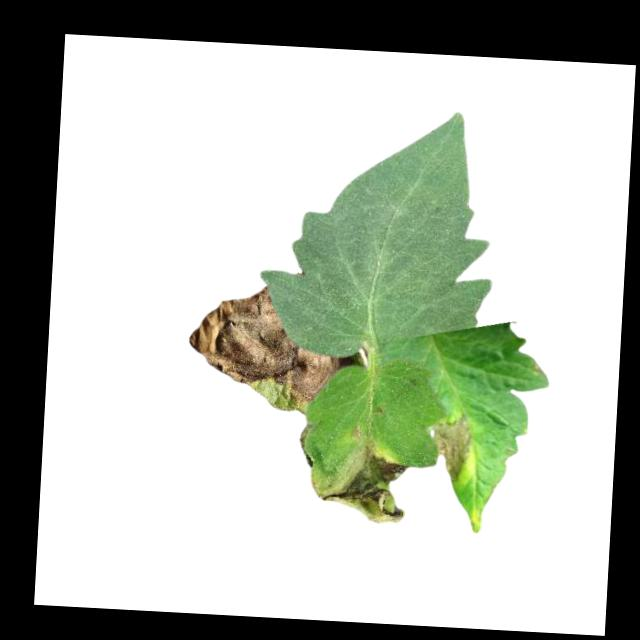Late_blight: (185, 280, 349, 407), (308, 432, 413, 525), (430, 412, 474, 484), (298, 425, 314, 471)
healthy: (256, 100, 501, 364)
